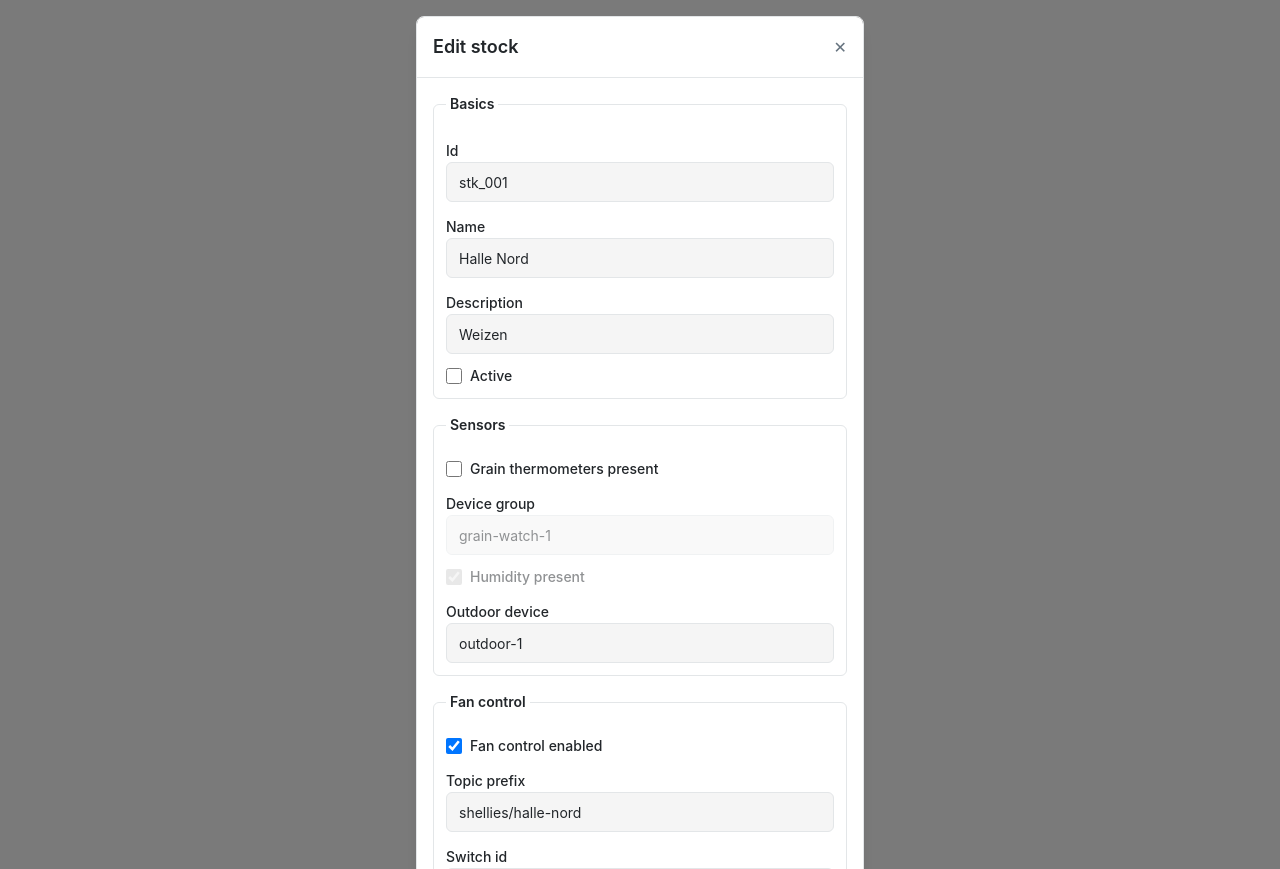
Test: StockFormDialog field dependencies › locks the device group and the humidity checkbox until grain thermometers are ticked
Expected: the field labelled "Device group" is disabled, [446,515,834,555]
Click the checkbox labelled "Grain thermometers present" at x=454, y=469, box [446,461,462,477]
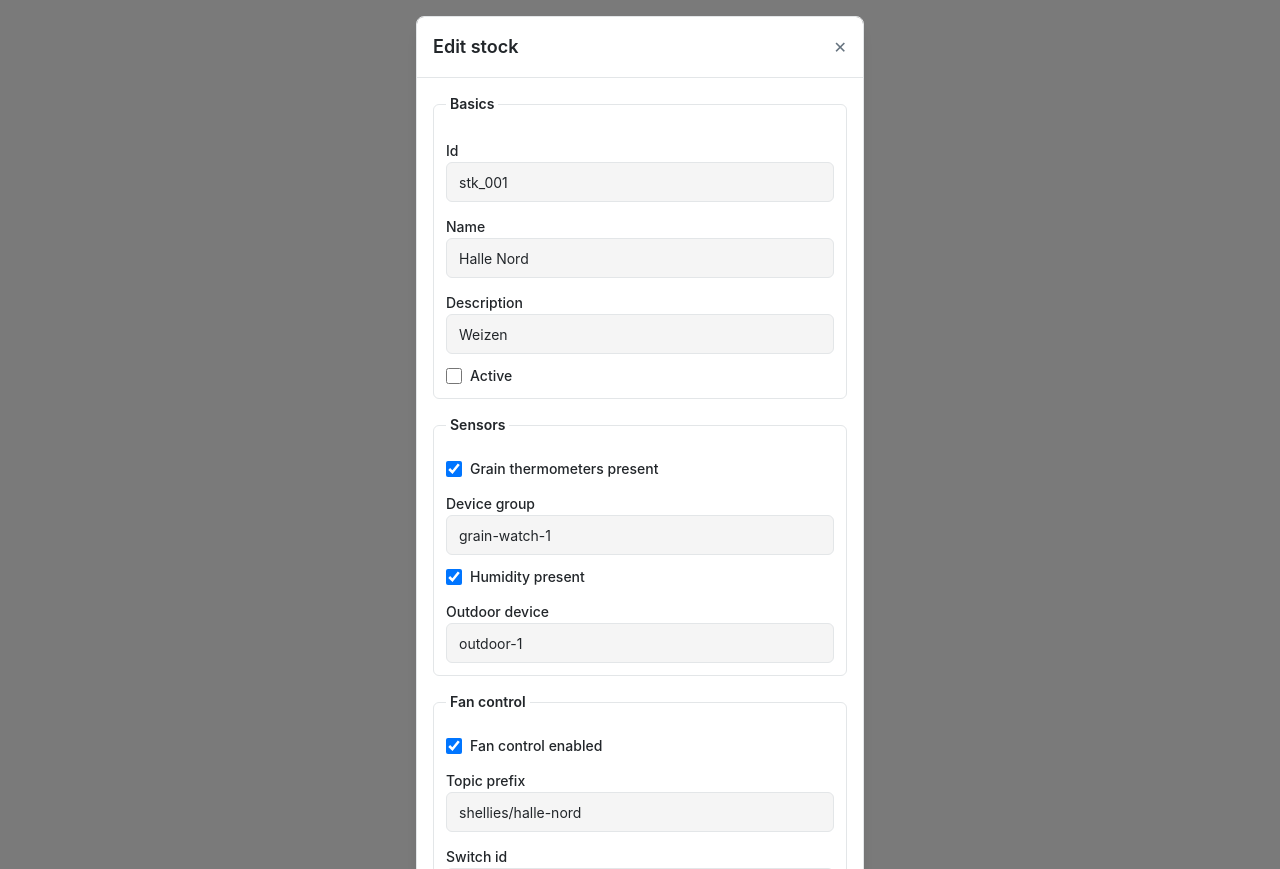
Now the field labelled "Device group" is enabled, box [446,515,834,555]
Now the checkbox labelled "Humidity present" is enabled, box [446,569,462,585]
